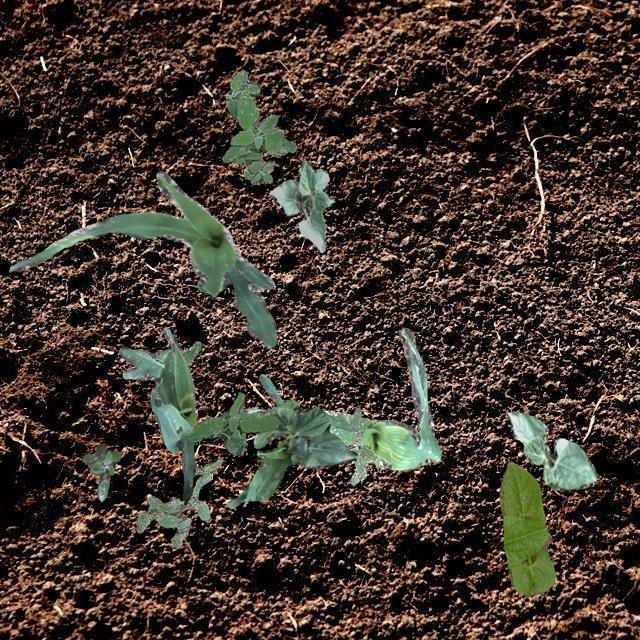crop: (8, 170, 276, 348), (245, 326, 440, 468), (118, 326, 200, 504), (225, 372, 298, 507), (498, 460, 554, 596), (252, 398, 356, 468), (507, 410, 597, 490), (268, 158, 334, 252)
weed: (222, 68, 296, 184), (135, 456, 221, 546), (188, 392, 278, 454), (332, 406, 378, 484), (82, 444, 120, 499)
